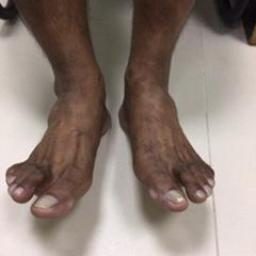Front View -Both Feet-: (2, 35, 229, 233)
